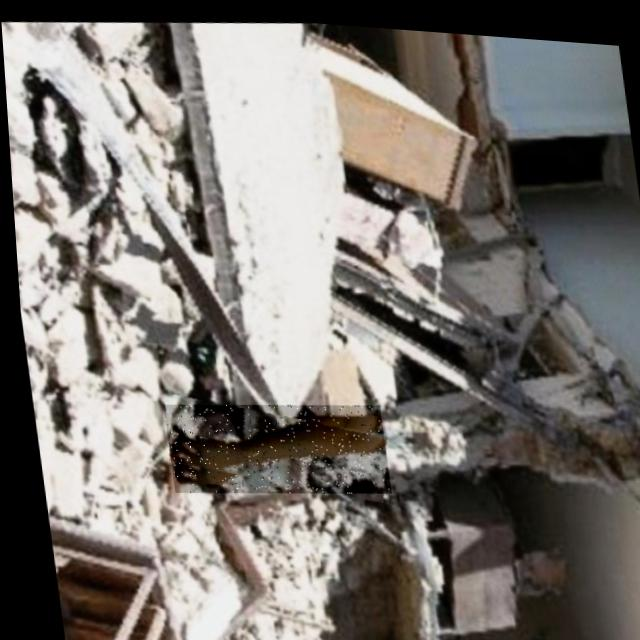Person in Rubble: (155, 387, 385, 503)
